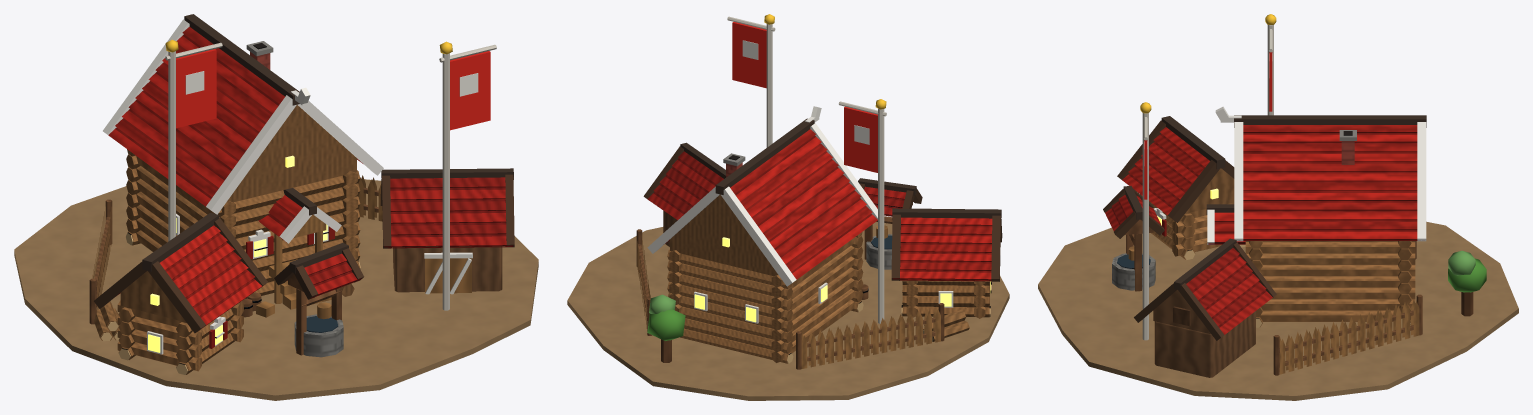
Rendered from residence_dl2_red.glb.
3 views of the same model, side by side, from view 1: azimuth 30°, elevation 25°; view 2: azimuth 150°, elevation 25°; view 3: azimuth 270°, elevation 25° (orthographic). The views are drawn at different scales.
Parts seen in each view (by area): view 1: residence_dl2_red; view 2: residence_dl2_red; view 3: residence_dl2_red.
Boxes of the visible parts, x1,y1,x2,y2 form: residence_dl2_red: (14, 14, 538, 400); residence_dl2_red: (567, 14, 1009, 400); residence_dl2_red: (1038, 14, 1518, 400).
Bounding box in the file's own units: 1.55 × 0.897 × 1.61.
Materials: 2 (1 with a texture image).
